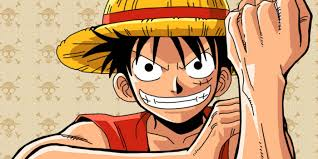luffy: (54, 1, 239, 126)
